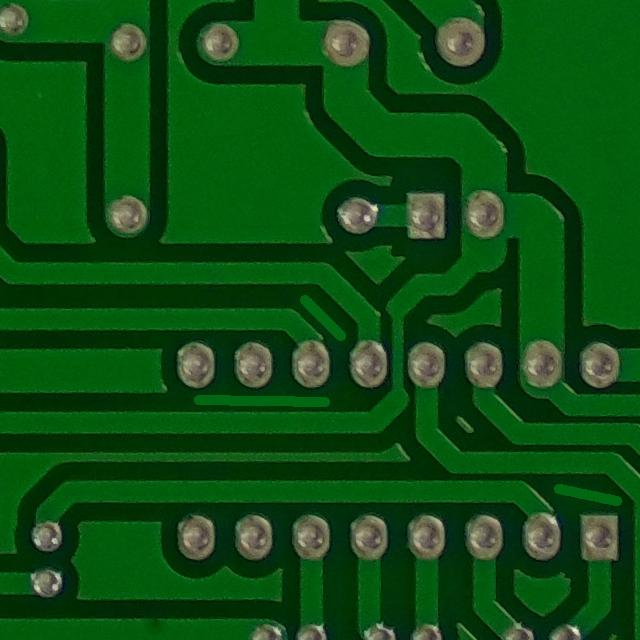spurious_copper: (287, 286, 353, 355)
